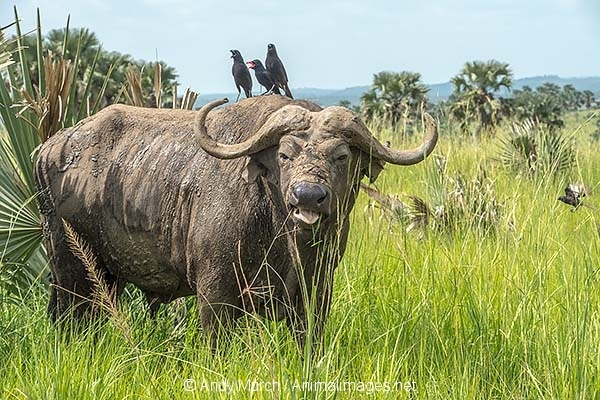buffalo: (30, 92, 437, 357)
